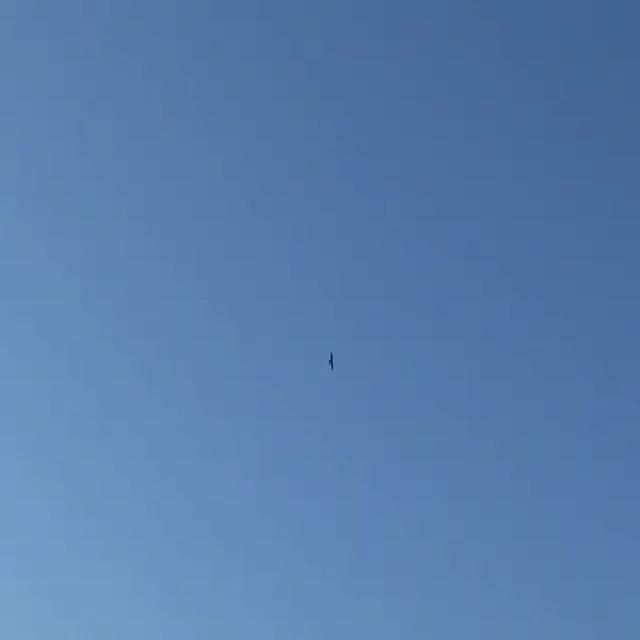bird: (324, 345, 346, 374)
